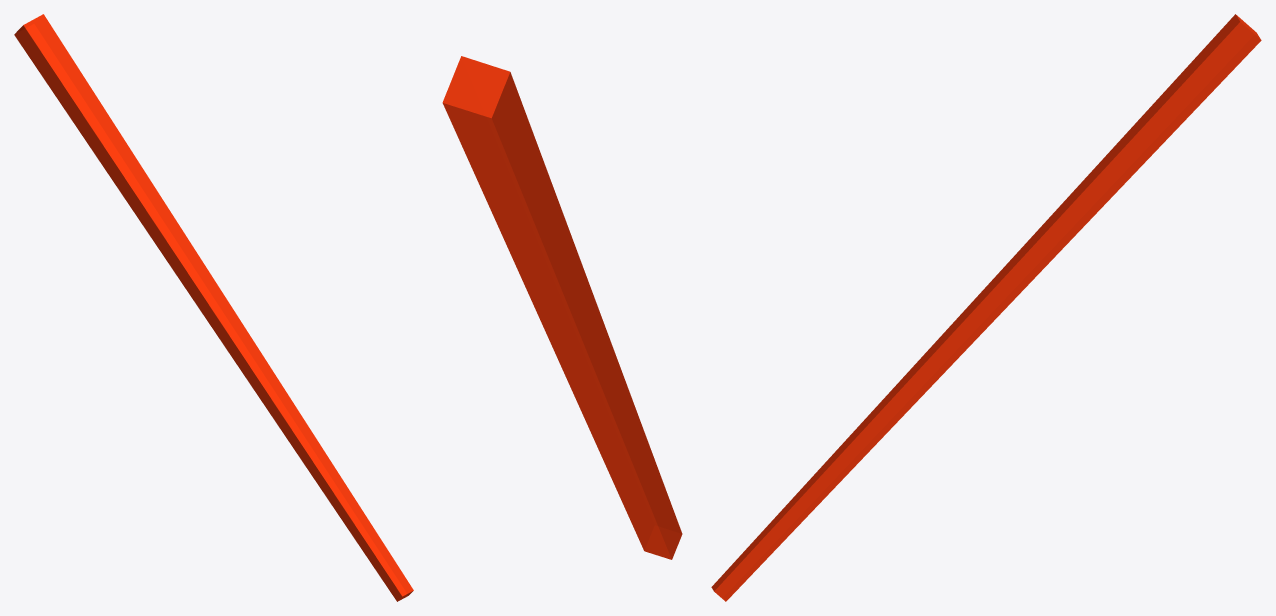
The model's file is Event_420094457_EBrechit_1.fbx.
The picture shows the model from 3 angles, left to right: view 1: azimuth 30°, elevation 25°; view 2: azimuth 150°, elevation 25°; view 3: azimuth 270°, elevation 25°; orthographic projection. The views are drawn at different scales.
Visible parts, largest first — view 1: Model; view 2: Model; view 3: Model.
Part boxes in pixels (x1,y1,x2,y2): Model: (14,14,413,601); Model: (442,56,682,559); Model: (711,14,1261,601).
Size of the model in its own units: 0.6978 by 1.89 by 1.85.
